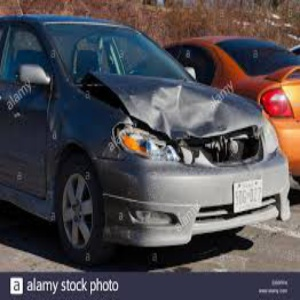bonnet: (102, 69, 206, 130)
head_lights: (132, 127, 184, 166)
